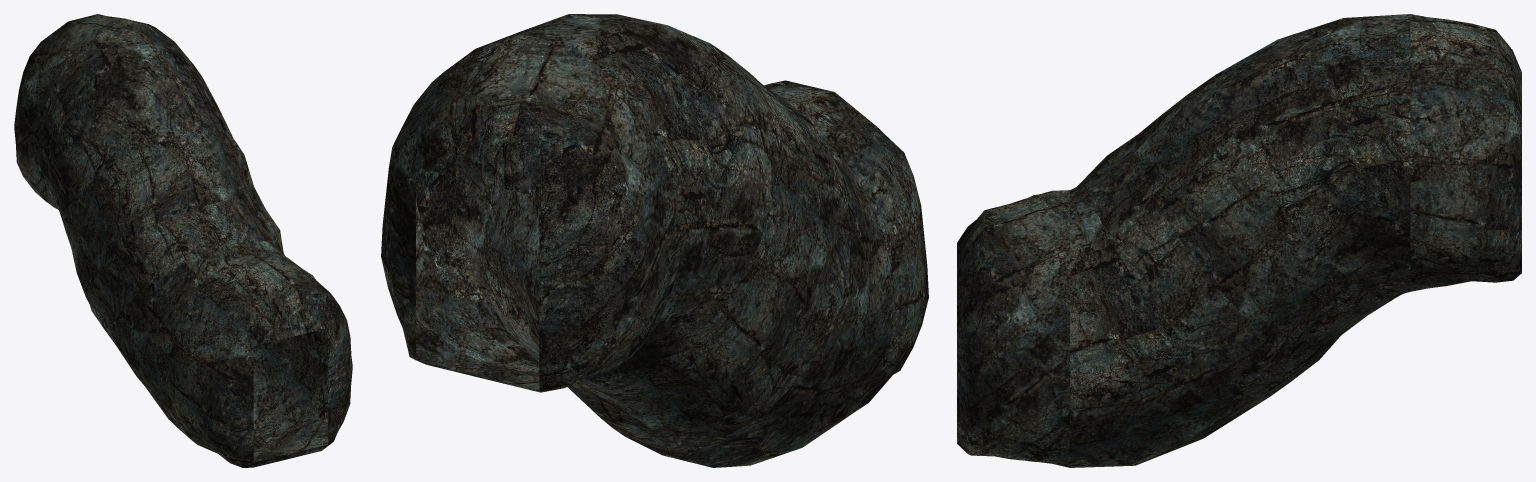
Rendered from 02_06_stairs_short_special.dae.
3 views of the same model, side by side, from view 1: azimuth 30°, elevation 25°; view 2: azimuth 150°, elevation 25°; view 3: azimuth 270°, elevation 25° (orthographic). The views are drawn at different scales.
Parts seen in each view (by area): view 1: 02_06_tunnel_stairs_short_special; view 2: 02_06_tunnel_stairs_short_special; view 3: 02_06_tunnel_stairs_short_special.
Boxes of the visible parts, <box> form: 02_06_tunnel_stairs_short_special: <box>14,14,352,467</box>; 02_06_tunnel_stairs_short_special: <box>381,14,928,467</box>; 02_06_tunnel_stairs_short_special: <box>957,14,1521,467</box>.
Size of the model in its own units: 3.53 by 6.37 by 7.5.
